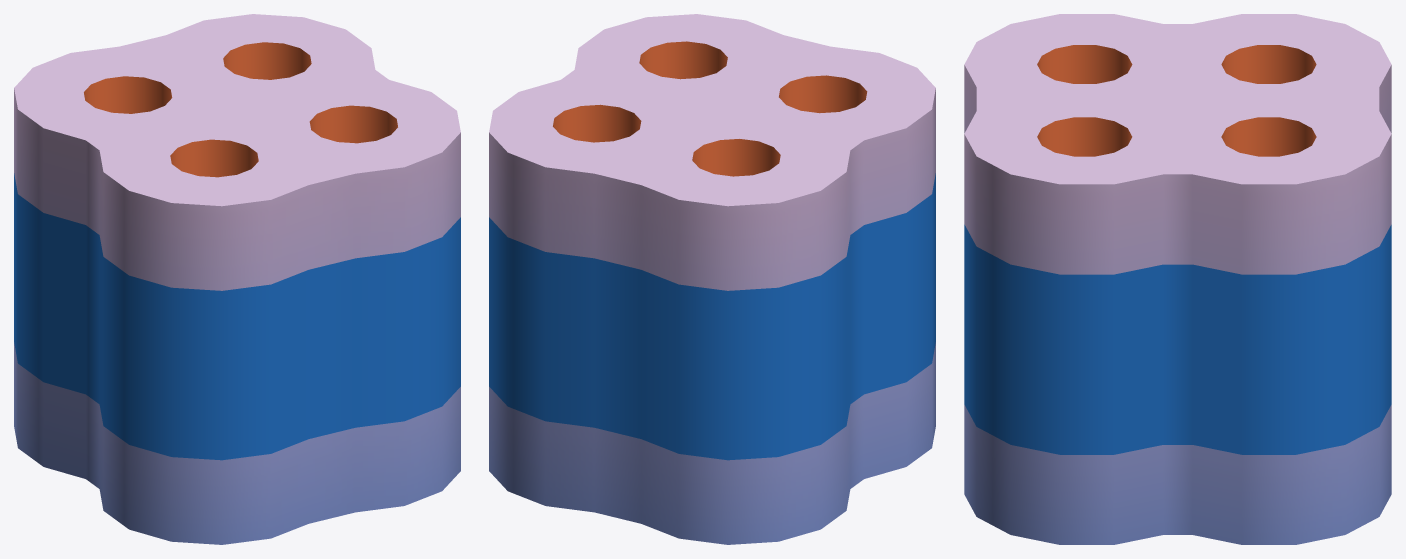
Rendered from paper.fbx.
3 views of the same model, side by side, from view 1: azimuth 30°, elevation 25°; view 2: azimuth 150°, elevation 25°; view 3: azimuth 270°, elevation 25° (orthographic). The views are drawn at different scales.
Visible parts, largest first — view 1: paper; view 2: paper; view 3: paper.
Boxes of the visible parts, x1,y1,x2,y2 form: paper: (14, 14, 460, 544); paper: (489, 14, 935, 544); paper: (964, 14, 1391, 544).
Size of the model in its own units: 36 by 35.53 by 38.15.
